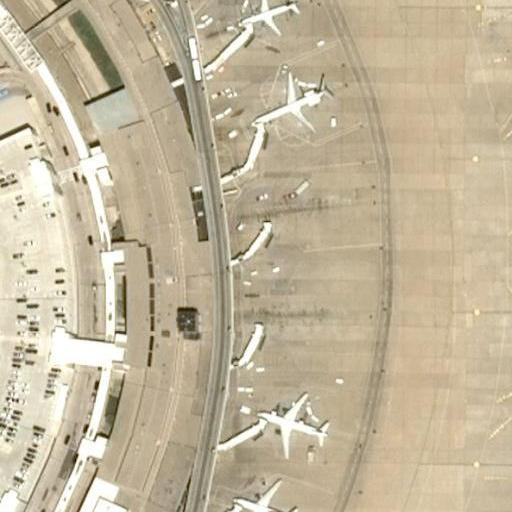Aircraft: (254, 392, 337, 458), (255, 75, 326, 136), (233, 478, 299, 512), (240, 0, 299, 38)
